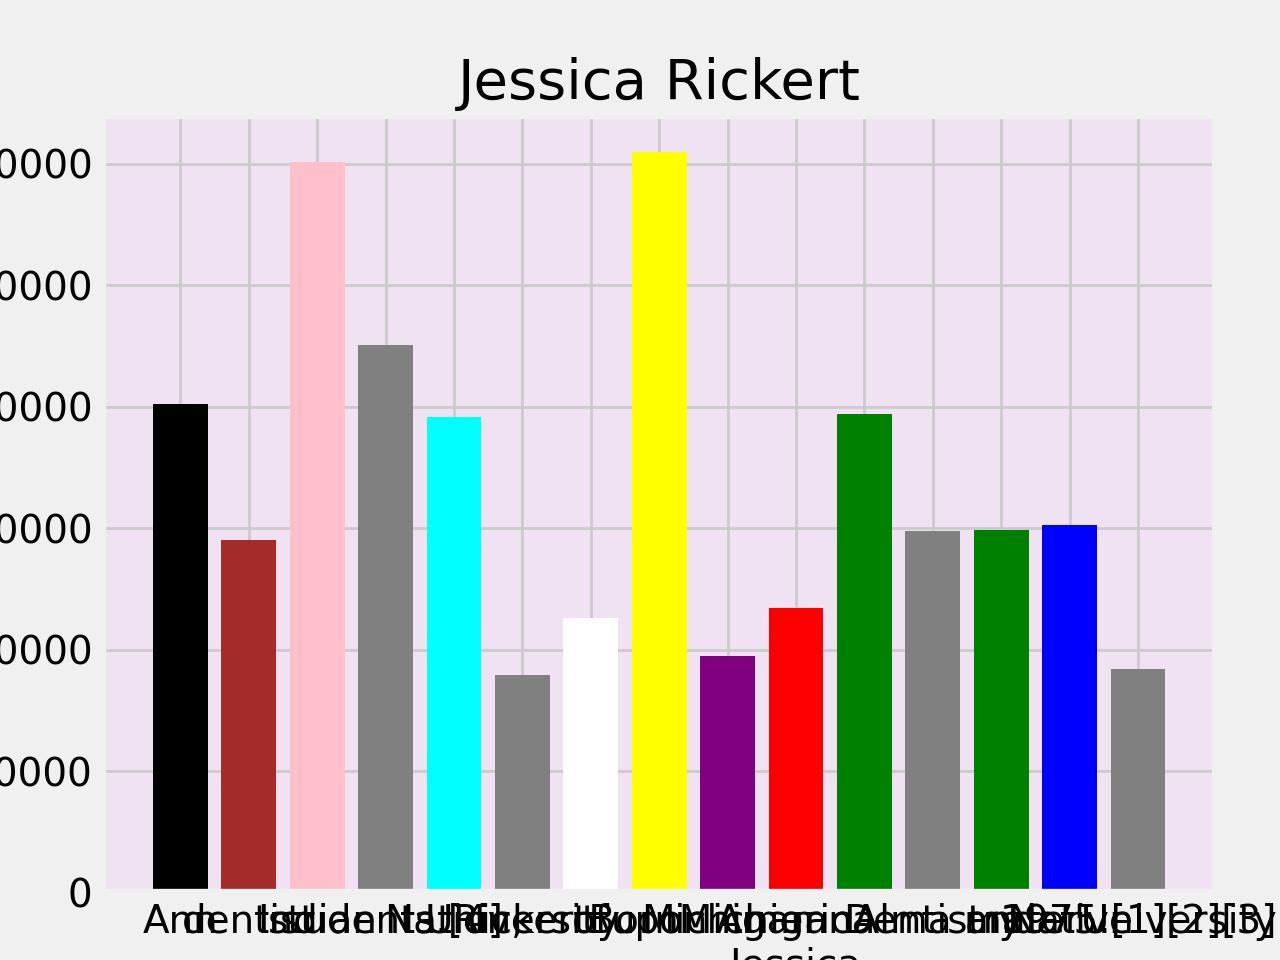axis: (0, 149, 93, 916)
rectangle: (289, 162, 345, 892), (632, 152, 686, 893), (358, 345, 413, 892), (153, 403, 208, 892), (837, 414, 892, 892), (426, 417, 482, 893), (905, 531, 961, 893), (1042, 525, 1097, 893), (974, 530, 1028, 893), (222, 541, 276, 893), (768, 608, 823, 893), (563, 618, 619, 893), (700, 656, 755, 892), (1111, 669, 1165, 893), (495, 675, 550, 893)
